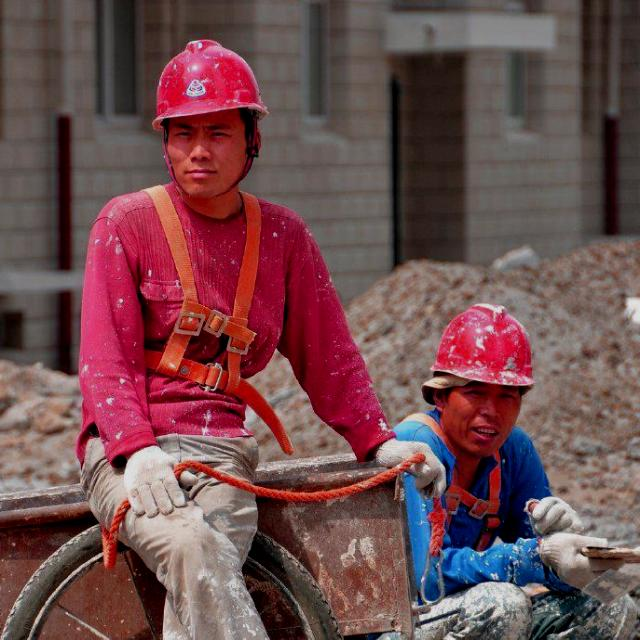face_nomask: (157, 105, 259, 213), (434, 385, 523, 457)
hand_glove: (117, 441, 180, 527), (526, 536, 617, 588), (365, 439, 445, 494), (512, 501, 590, 541)
head_helmet: (423, 294, 553, 392), (148, 43, 270, 123)
person: (83, 44, 335, 636), (377, 270, 568, 640)
